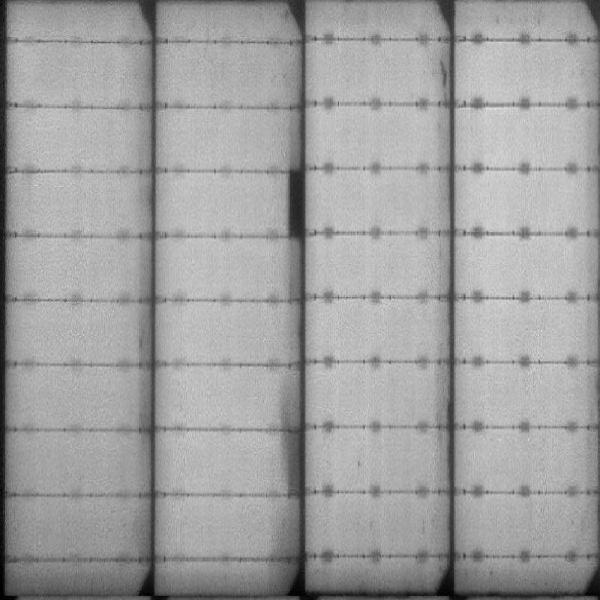black_border: (286, 163, 309, 246)
scratch: (437, 63, 450, 95)
